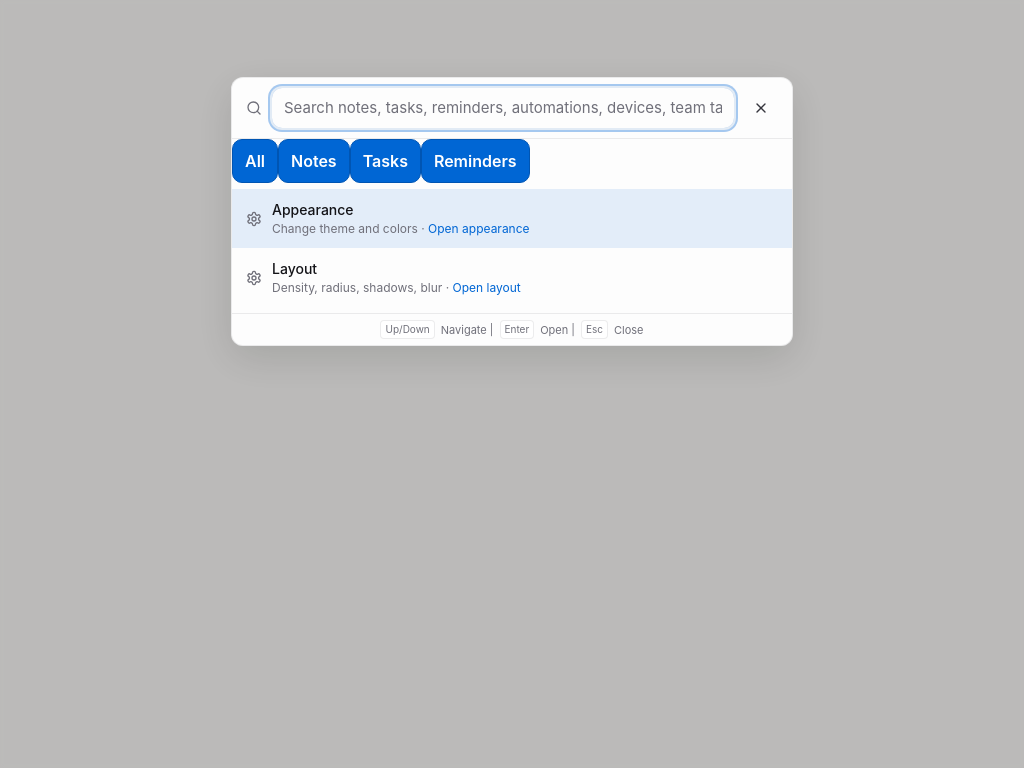
Scenario: CommandPalette › shows empty state when no matches
Replace the text in the field with placeholder "Search notes" with "xyz" at (503, 108), box [272, 88, 734, 128]
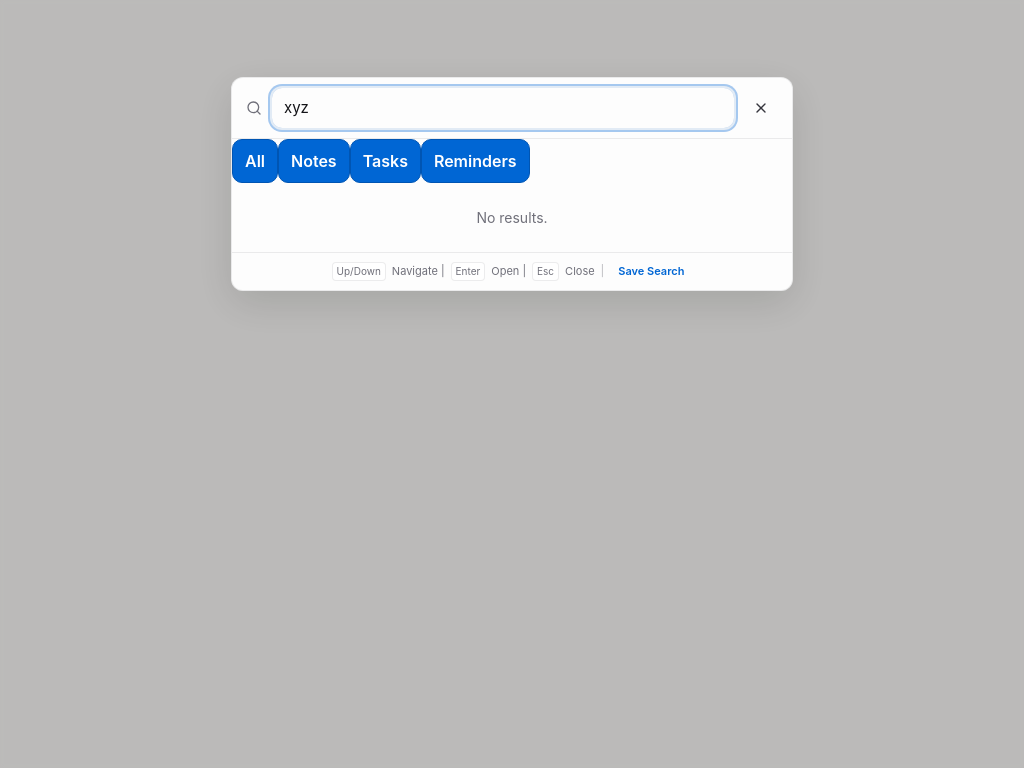
Now the text "No results." is shown, box [476, 209, 548, 226]
